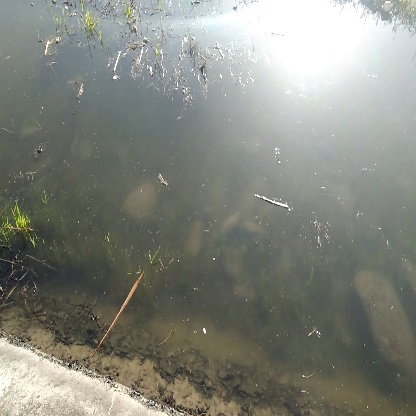branch: (250, 184, 303, 228)
grass: (2, 205, 42, 253)
